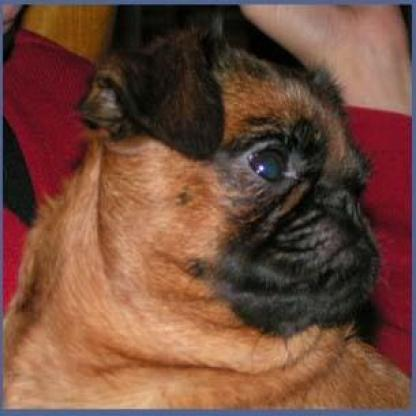Brabancon_griffon: (0, 0, 409, 410)
